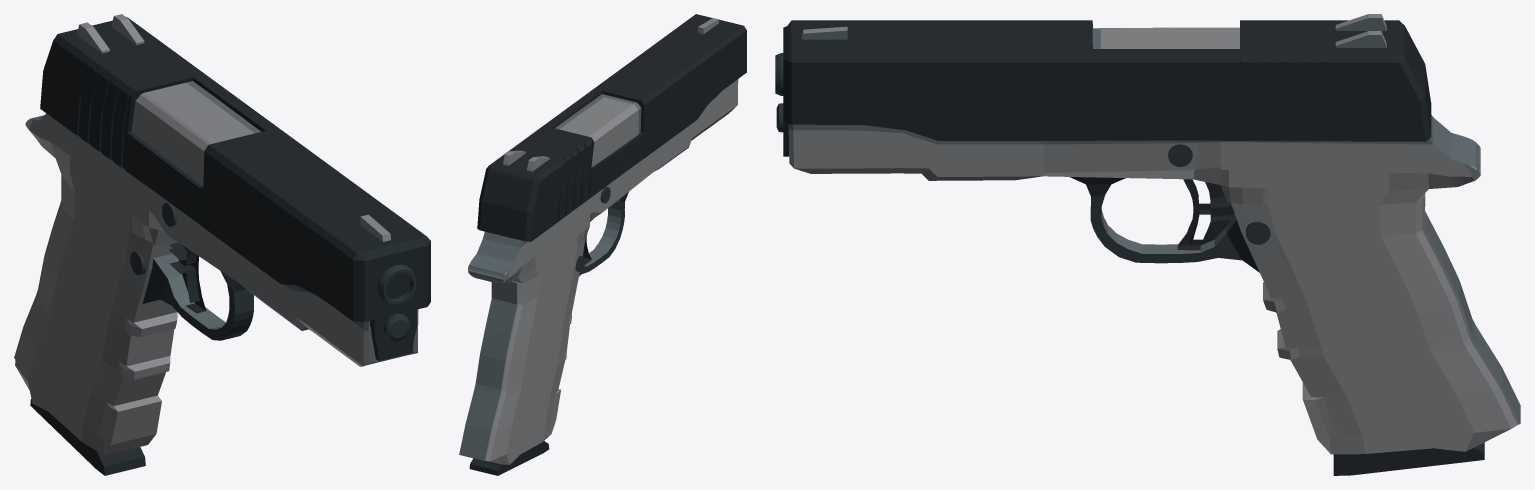
The model's file is Pistol.fbx.
3 renders of one model, left to right at view 1: azimuth 30°, elevation 25°; view 2: azimuth 150°, elevation 25°; view 3: azimuth 270°, elevation 25°, orthographic. The views are drawn at different scales.
Parts seen in each view (by area): view 1: Pistol; view 2: Pistol; view 3: Pistol.
Part boxes in pixels (x1=…): Pistol: x1=14, y1=14, x2=430, y2=475; Pistol: x1=459, y1=14, x2=746, y2=475; Pistol: x1=775, y1=14, x2=1520, y2=475.
Bounding box in the file's own units: 57.9 × 308 × 472.
Materials: 1 (1 with a texture image).
